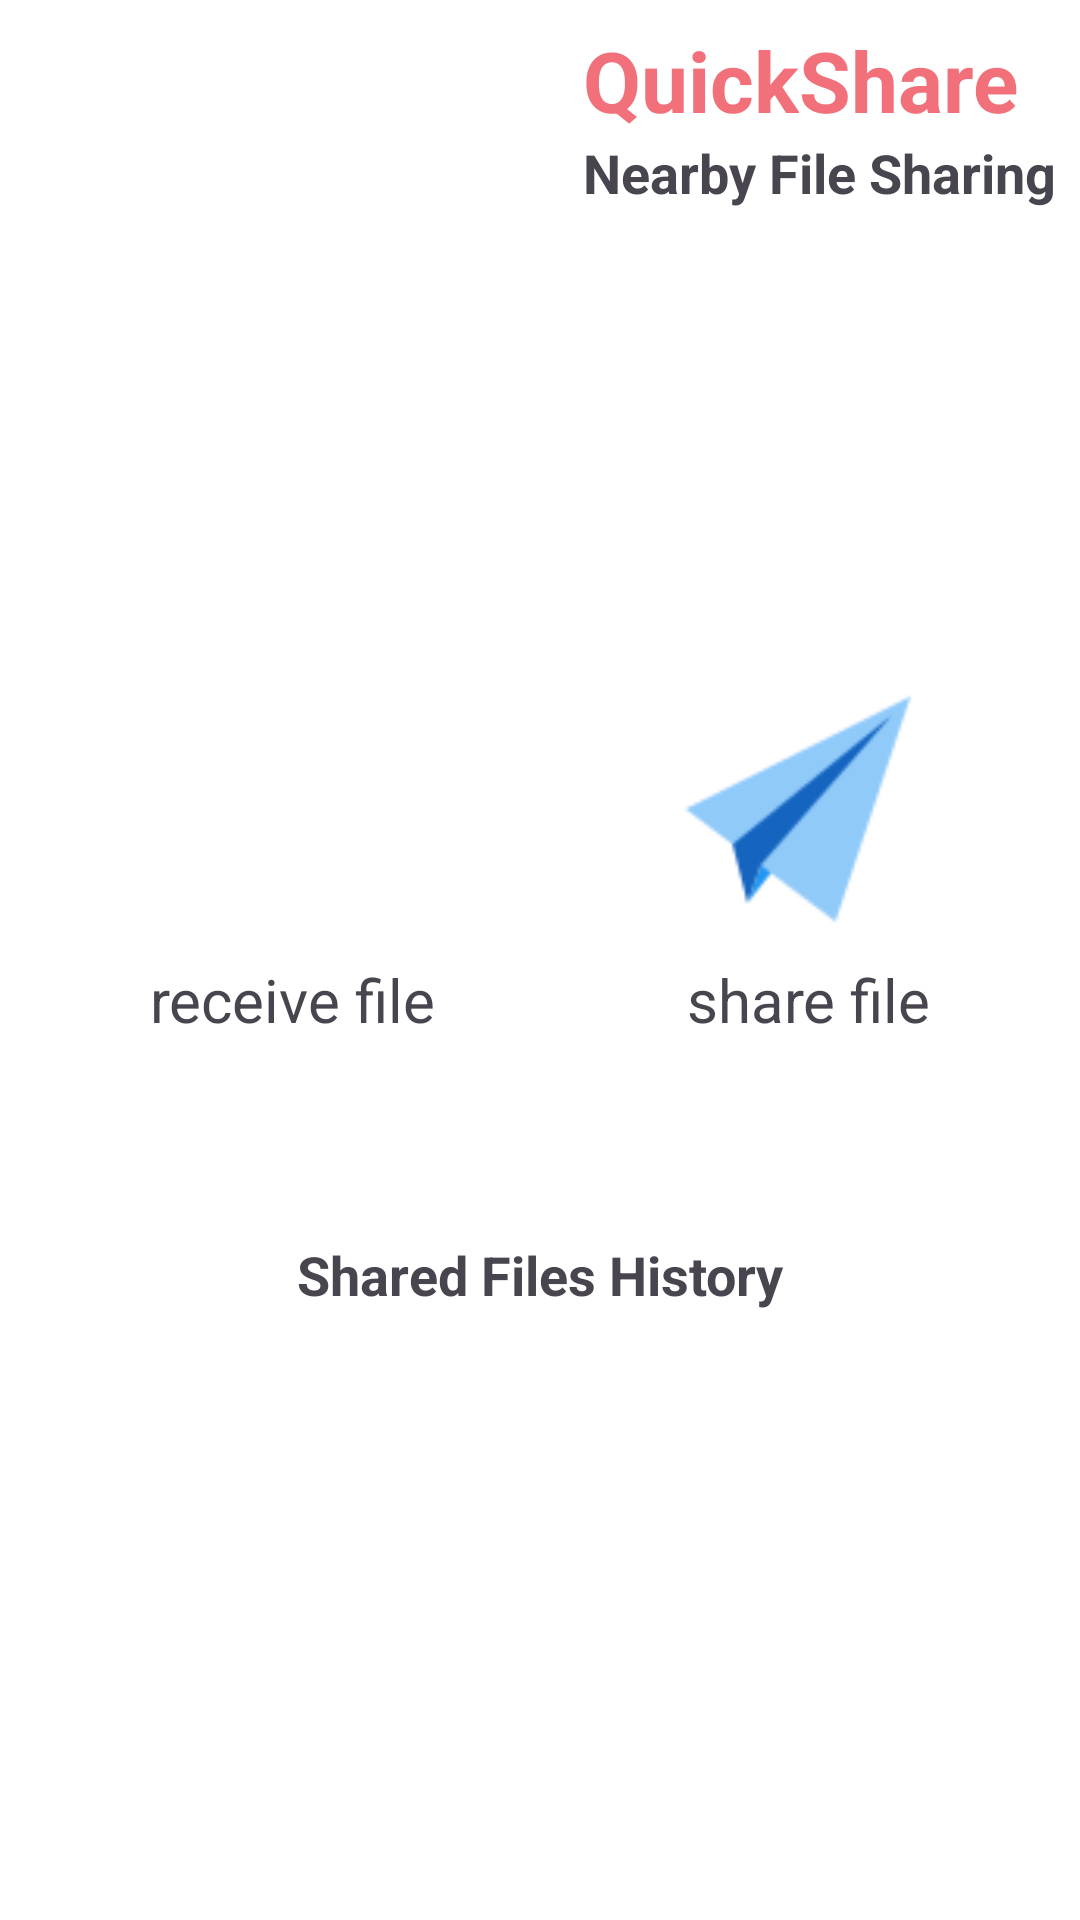

Point at icon controls on the screen. Image size 1080×1920, points as [x,y].
paper plane: [798,809]
